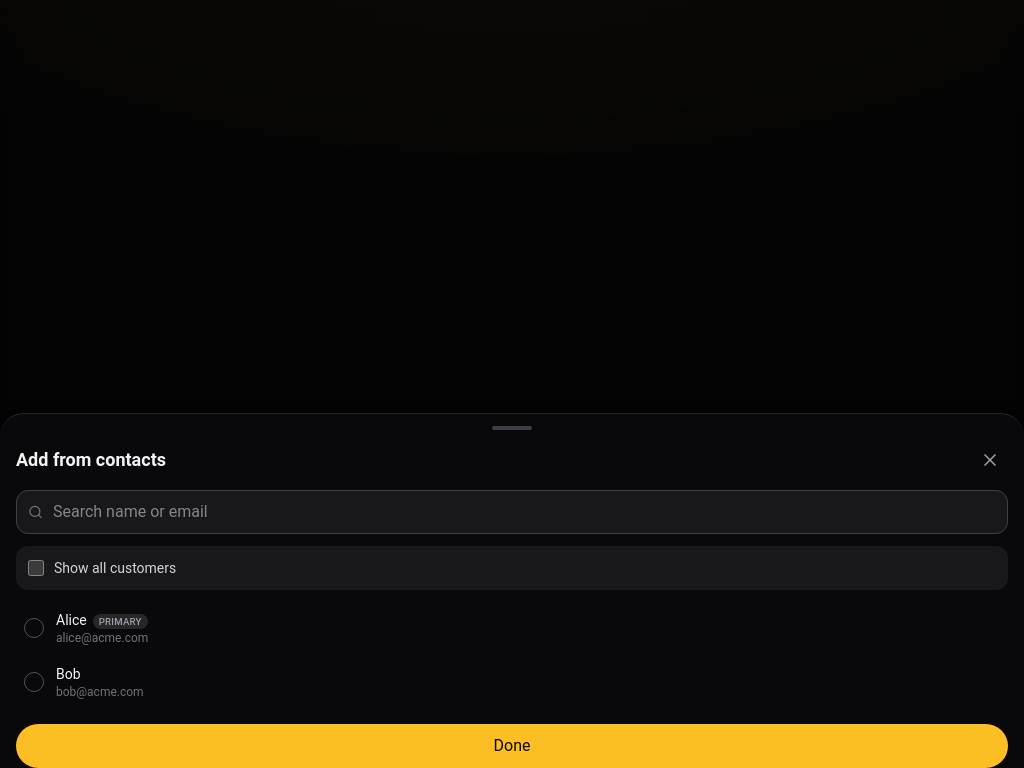
Test: ContactPicker › filters rows by the search query (case-insensitive)
This screenshot has width=1024, height=768.
Check: the text "Alice" is shown, box [56, 612, 87, 628]
Type "BOB" into the field named "Search contacts" at (512, 512), box [16, 490, 1008, 534]
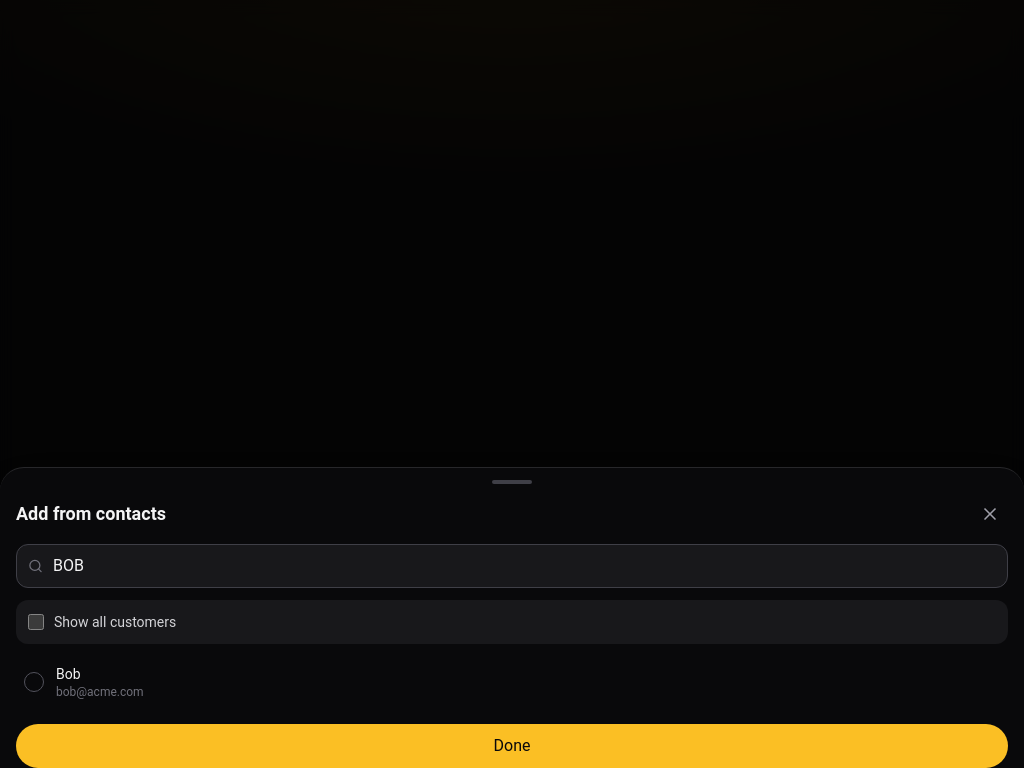
Check: the text "Bob" is shown, box [56, 666, 81, 682]
Check: the button "Alice" is gone
